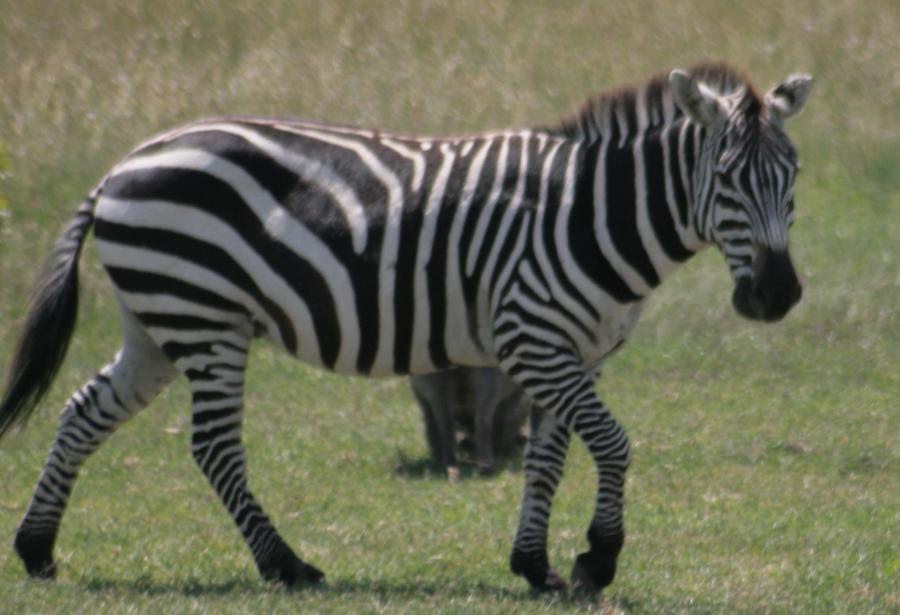zebra_plains: (110, 111, 589, 387)
